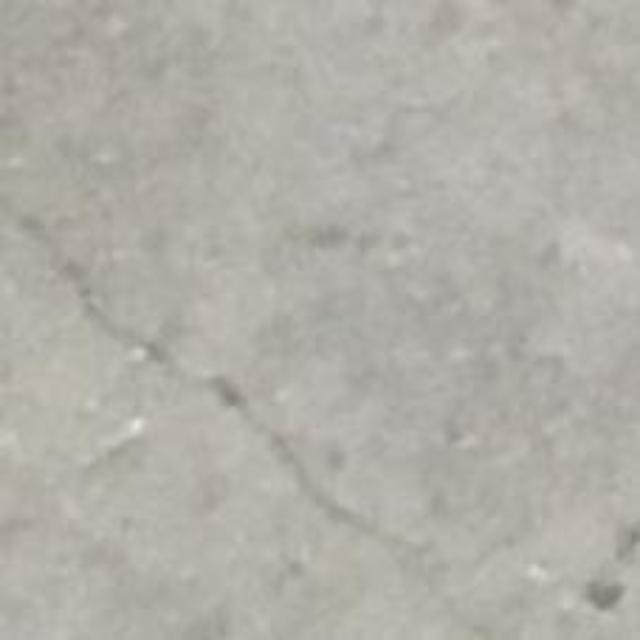crack: (15, 218, 420, 552)
